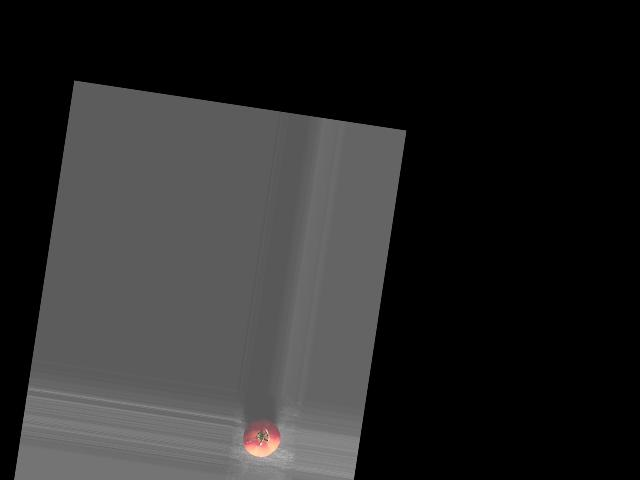tomato: (241, 417, 282, 459)
